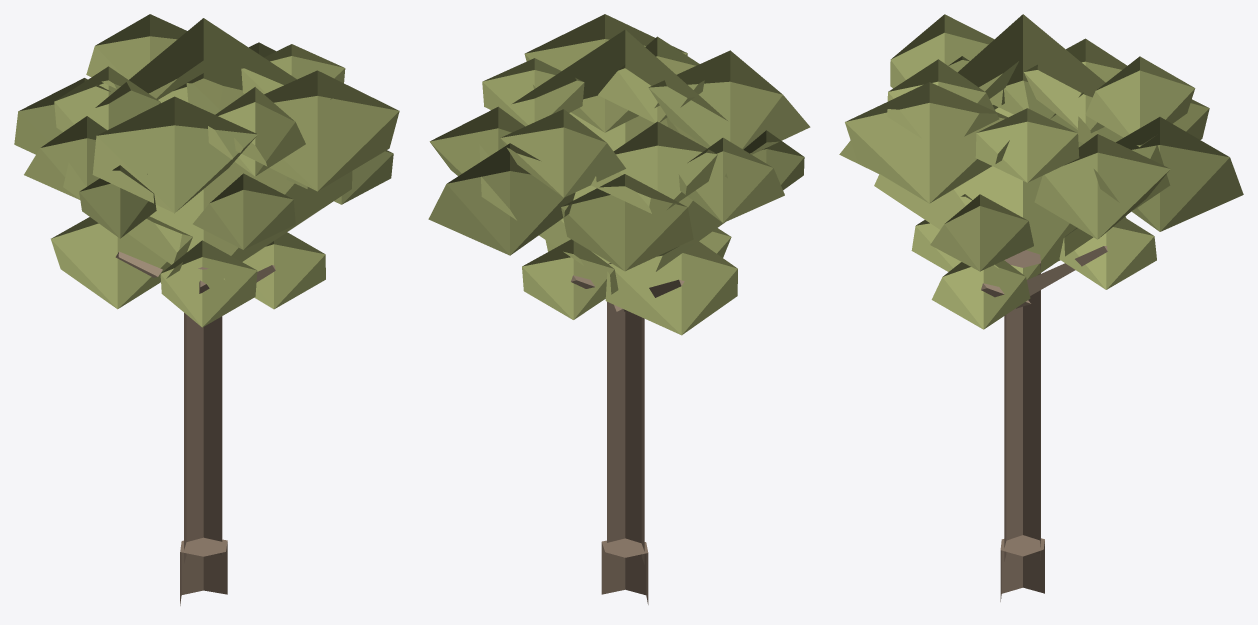
File: tree.trop.dipterocarp__autumn.glb
3 views of the same model, side by side, from view 1: azimuth 30°, elevation 25°; view 2: azimuth 150°, elevation 25°; view 3: azimuth 270°, elevation 25° (orthographic). The views are drawn at different scales.
Parts seen in each view (by area): view 1: tree.trop.dipterocarp__autumn; view 2: tree.trop.dipterocarp__autumn; view 3: tree.trop.dipterocarp__autumn.
Boxes of the visible parts, bbox=[...] form: tree.trop.dipterocarp__autumn: bbox=[14, 14, 399, 605]; tree.trop.dipterocarp__autumn: bbox=[428, 14, 810, 604]; tree.trop.dipterocarp__autumn: bbox=[839, 14, 1243, 601].
Bounding box in the file's own units: 17.86 × 29.23 × 18.32.
